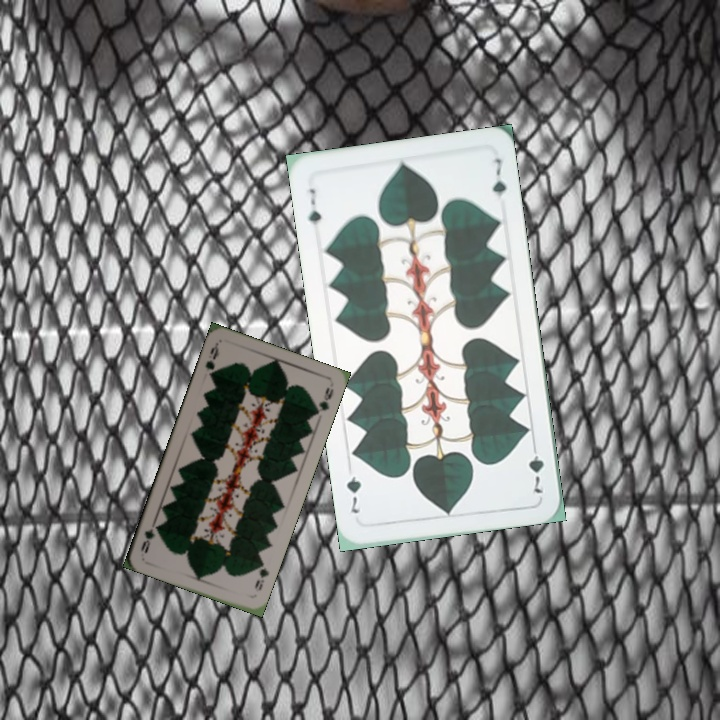G7: (524, 439, 547, 496), (304, 184, 324, 228)
G9: (201, 340, 221, 381), (250, 557, 271, 593)
